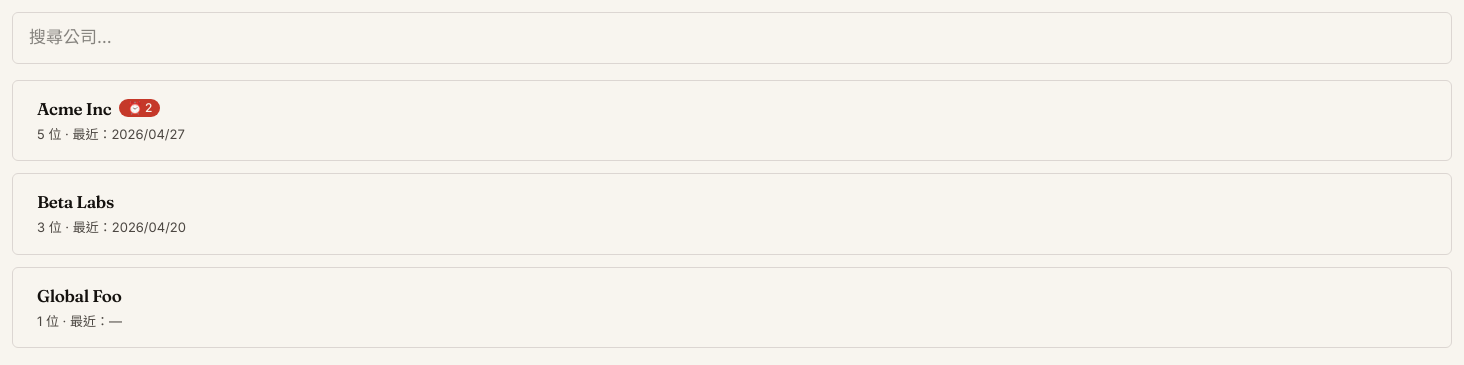
Test: CompanyList filter › shows the filtered/total count when filter is active
Type "a" into the search field labelled "搜尋公司" at (732, 38), box [12, 12, 1452, 64]
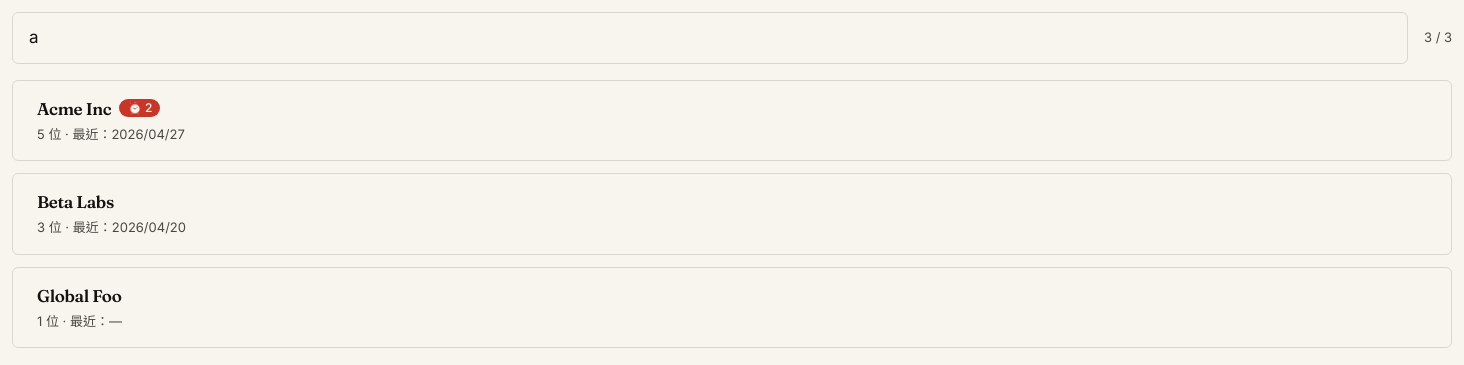
Check: the text "3 / 3" is shown, box [1424, 28, 1452, 48]
